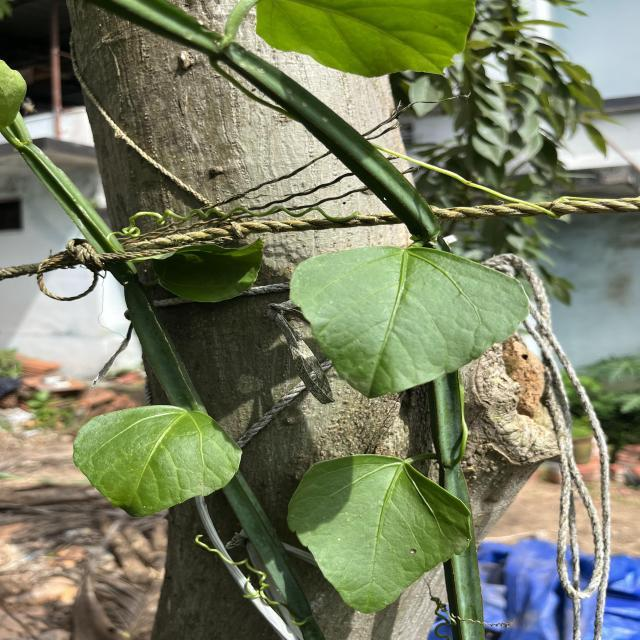Cissus quadrangularis: (284, 451, 475, 618), (70, 402, 246, 520)
